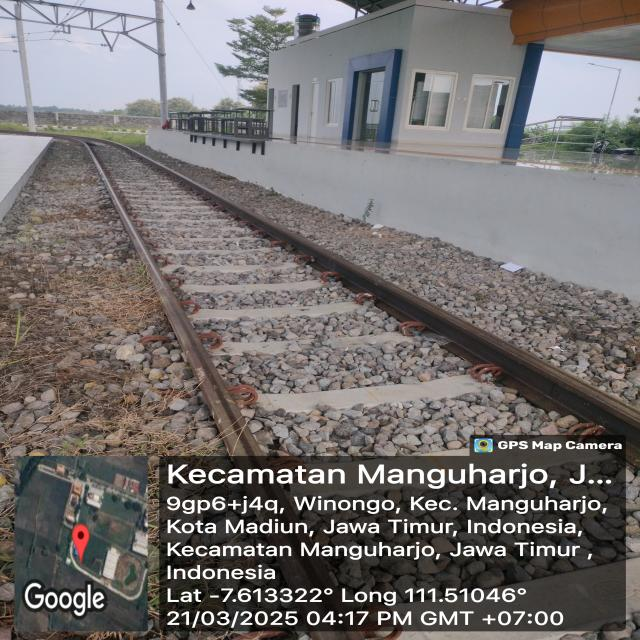rail-detection: (99, 141, 640, 458), (77, 138, 260, 456)
